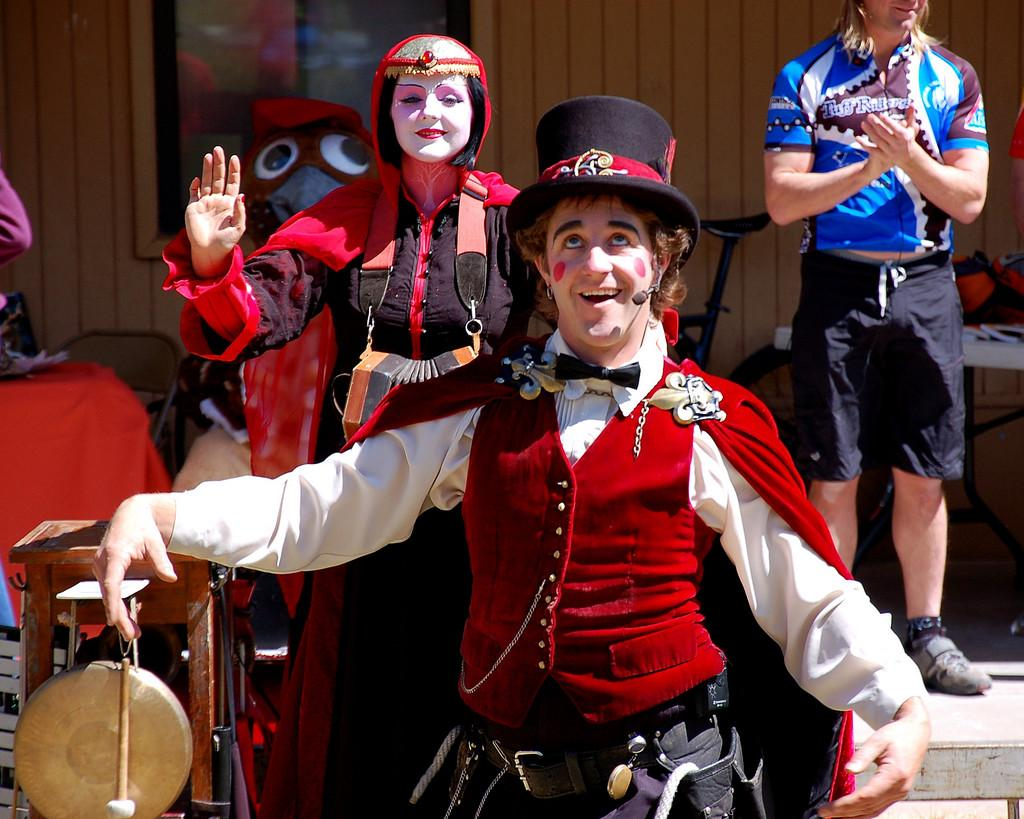Hat: (507, 96, 702, 275)
